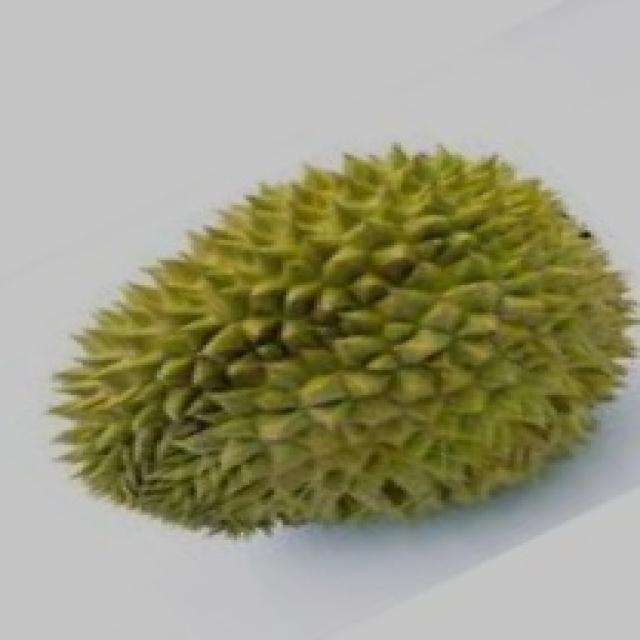fruit: (283, 125, 640, 567), (6, 182, 366, 598)
